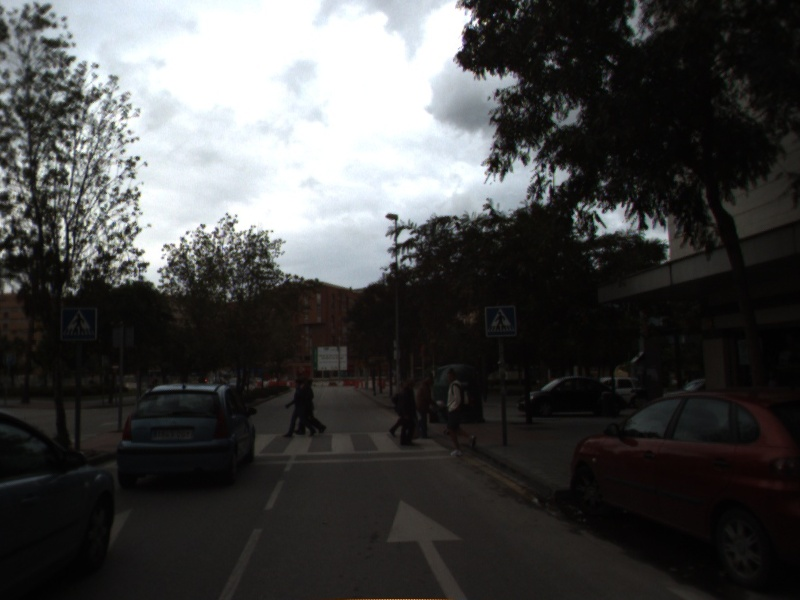STRAIGHT: (384, 497, 467, 600)
